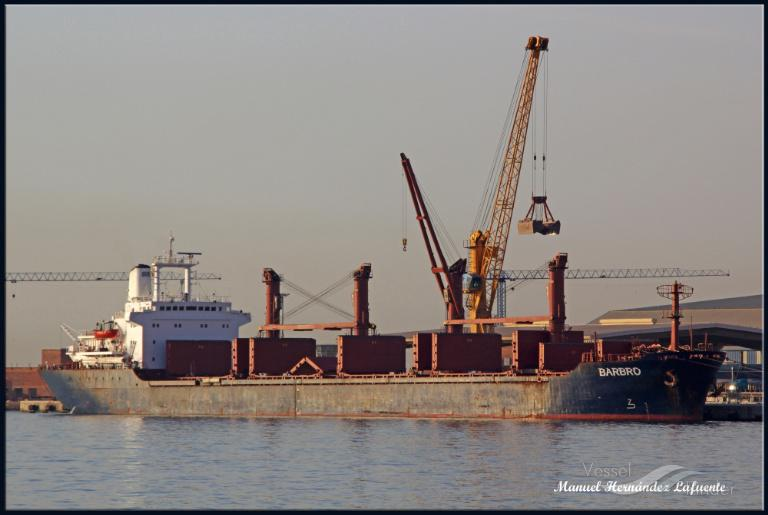OCR: (593, 366, 647, 380)
